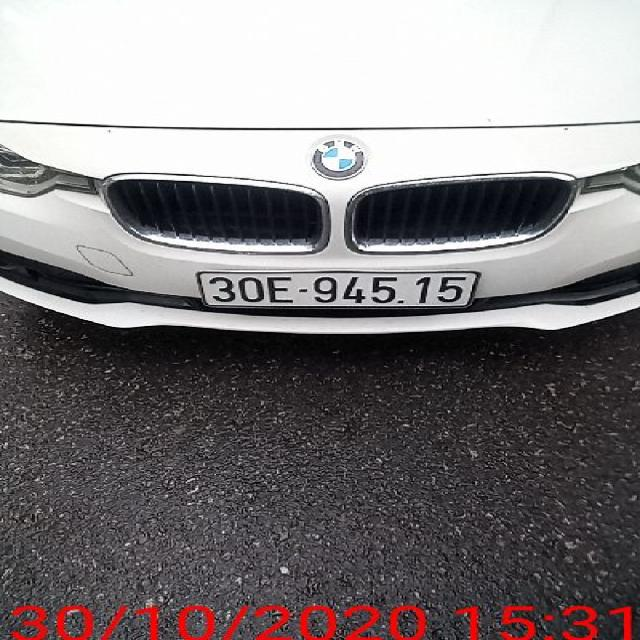biensoxehoi: (188, 268, 484, 316)
